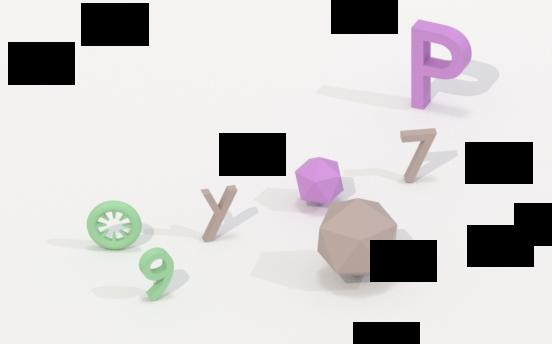7: (399, 126, 437, 186)
9: (137, 244, 177, 309)
Y: (199, 184, 240, 247)
dagiac: (314, 197, 399, 280), (291, 152, 345, 209)
p: (408, 16, 474, 114)
tron: (84, 196, 143, 254)
